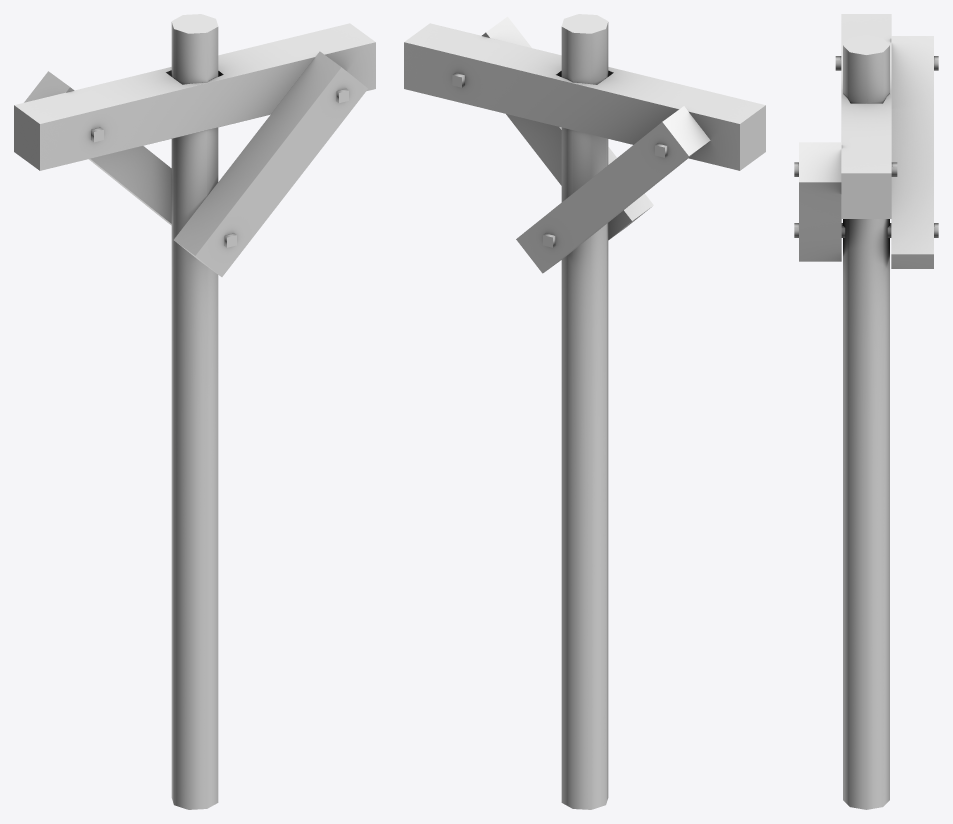
Rendered from lantern_streetlight.fbx.
3 views of the same model, side by side, from view 1: azimuth 30°, elevation 25°; view 2: azimuth 150°, elevation 25°; view 3: azimuth 270°, elevation 25° (orthographic). The views are drawn at different scales.
Visible parts, largest first — view 1: lantern_streetlight; view 2: lantern_streetlight; view 3: lantern_streetlight.
Boxes of the visible parts, x1=… form: lantern_streetlight: x1=14, y1=14, x2=375, y2=809; lantern_streetlight: x1=404, y1=14, x2=765, y2=809; lantern_streetlight: x1=794, y1=14, x2=938, y2=809.
Bounding box in the file's own units: 1200 × 2650 × 458.
